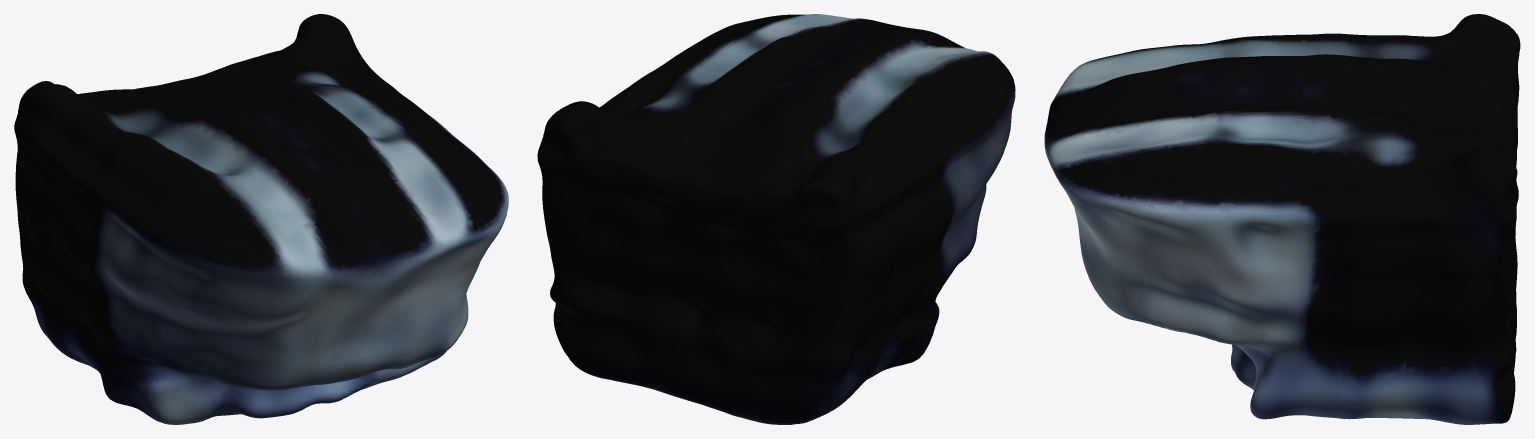
Rendered from backpack.glb.
3 renders of one model, left to right at view 1: azimuth 30°, elevation 25°; view 2: azimuth 150°, elevation 25°; view 3: azimuth 270°, elevation 25°, orthographic. The views are drawn at different scales.
Bounding box in the file's own units: 0.8741 × 0.6806 × 0.9993.
